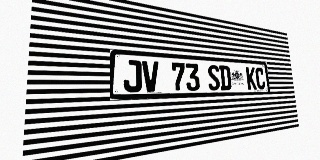3: (185, 63, 200, 91)
7: (171, 62, 186, 91)
C: (255, 67, 266, 90)
D: (219, 65, 232, 90)
J: (123, 60, 142, 92)
K: (246, 67, 257, 90)
S: (207, 64, 220, 91)
V: (142, 61, 159, 92)
